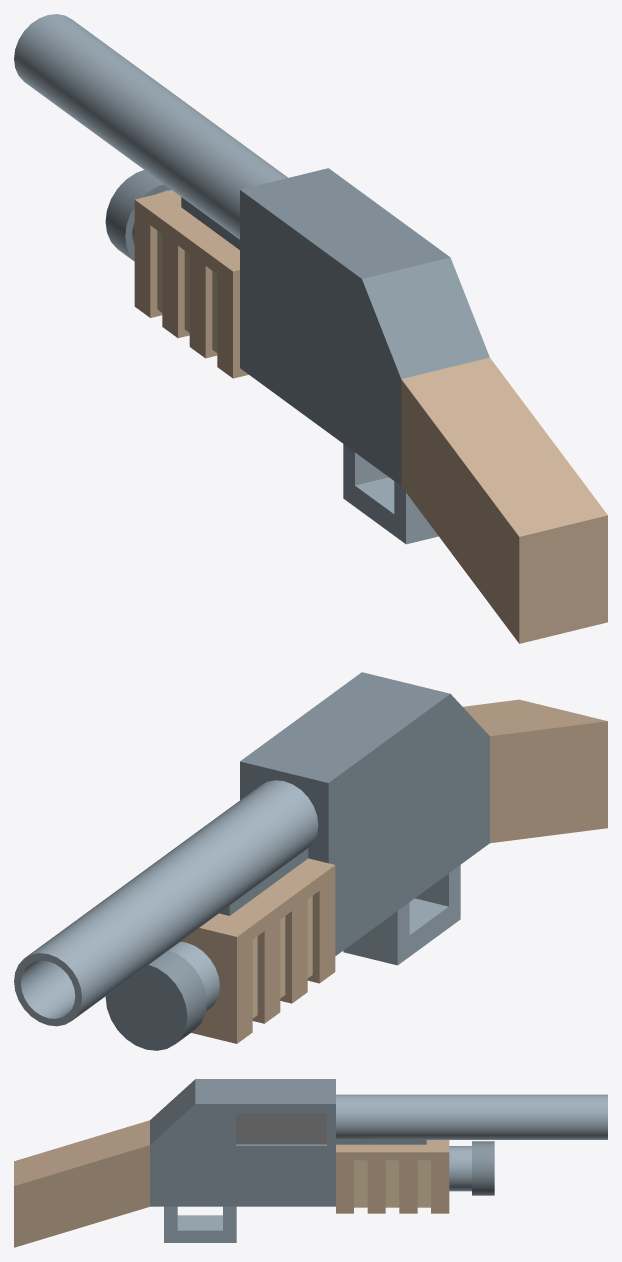
File: shotgunShort.gltf
3 renders of one model, top to bottom at view 1: azimuth 30°, elevation 25°; view 2: azimuth 150°, elevation 25°; view 3: azimuth 270°, elevation 25°, orthographic. The views are drawn at different scales.
Visible parts, largest first — view 1: Group (×2); view 2: Group (×2); view 3: Group (×2).
Boxes of the visible parts, x1,y1,x2,y2 form: Group (×2): (14,14,607,643); Group (×2): (14,672,607,1050); Group (×2): (14,1079,607,1247).
Size of the model in its own units: 0.0574 by 0.134 by 0.5015.
